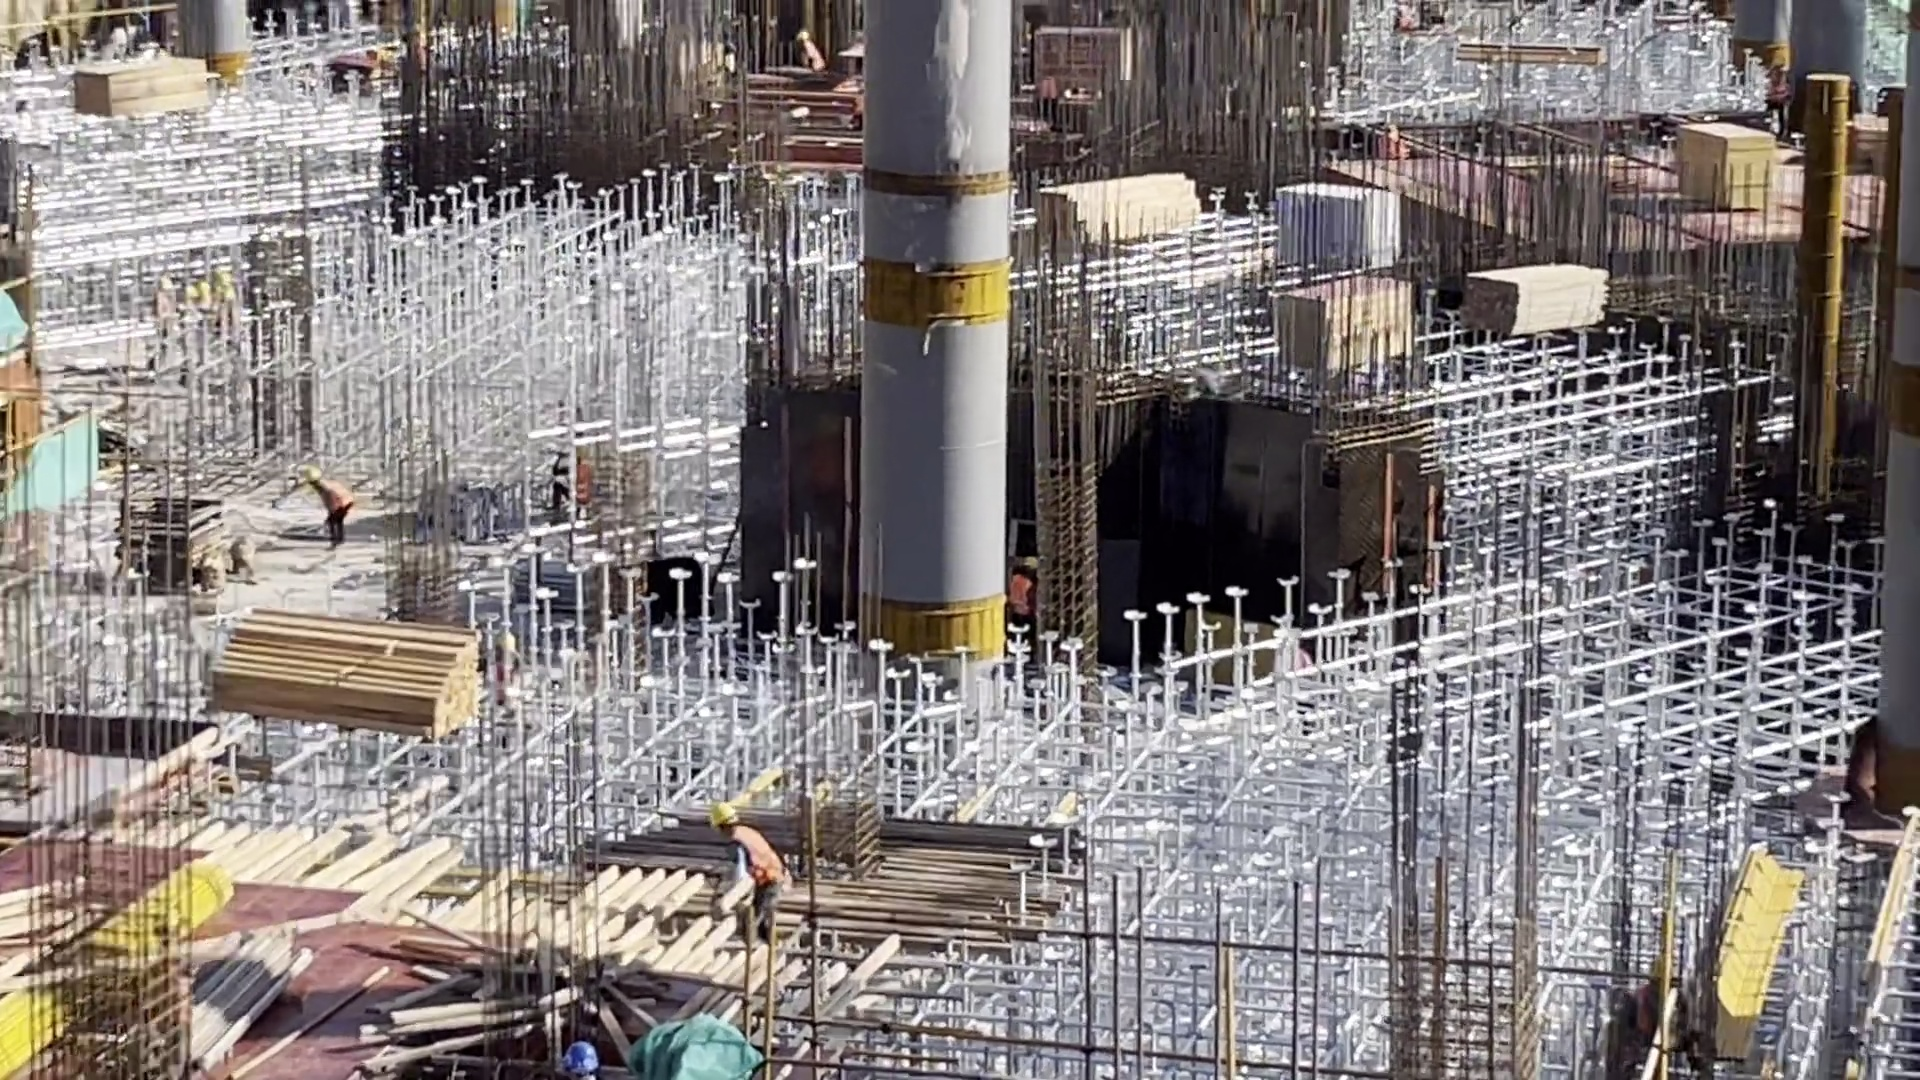board: (1274, 272, 1416, 370), (1671, 113, 1776, 216)
helmet: (557, 1039, 603, 1080), (706, 799, 738, 827)
person: (705, 798, 796, 943), (298, 463, 355, 543), (1006, 556, 1039, 638), (794, 27, 826, 72)
vest: (733, 825, 784, 888), (319, 481, 353, 515), (1010, 574, 1033, 621), (1022, 556, 1039, 569)
wood: (205, 608, 480, 740), (1035, 172, 1205, 249), (1457, 263, 1610, 344), (70, 57, 210, 121), (1453, 39, 1610, 70)
